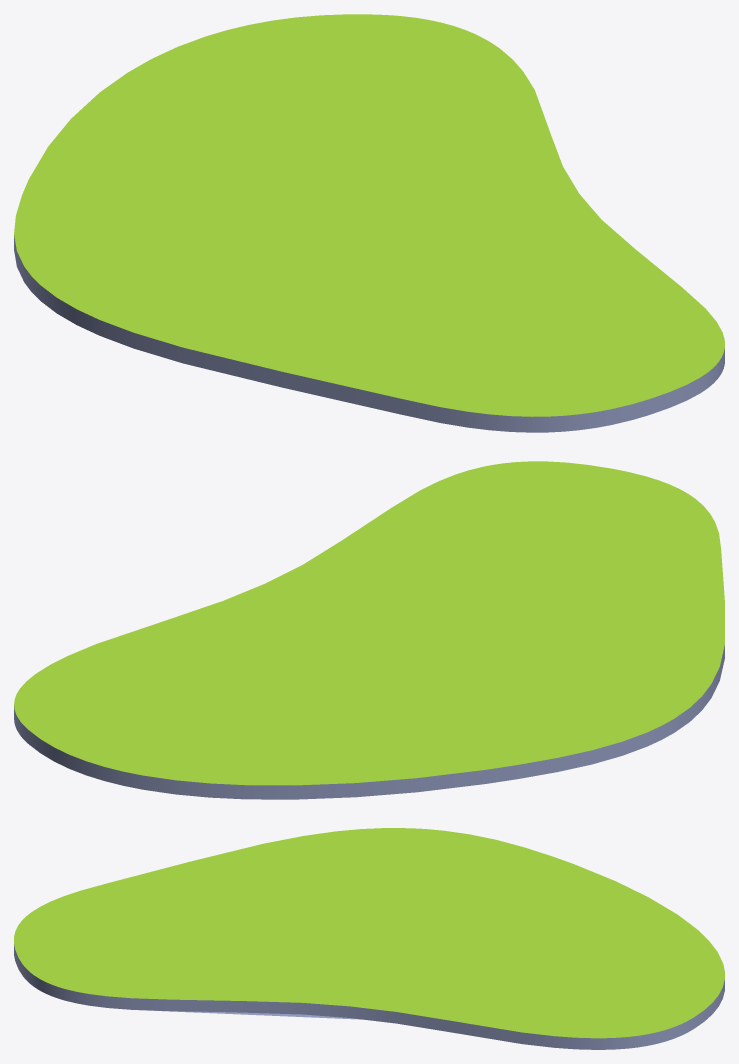
The model's file is Lastholes4.fbx.
3 views of the same model, one above another, from view 1: azimuth 30°, elevation 25°; view 2: azimuth 150°, elevation 25°; view 3: azimuth 270°, elevation 25° (orthographic). The views are drawn at different scales.
Visible parts, largest first — view 1: mainRes_2; view 2: mainRes_2; view 3: mainRes_2.
Boxes of the visible parts, box(x1,y1,x2,y2) form: mainRes_2: box(14, 14, 724, 432); mainRes_2: box(14, 461, 724, 799); mainRes_2: box(14, 828, 724, 1049).
Bounding box in the file's own units: 1163 × 30 × 1661.
